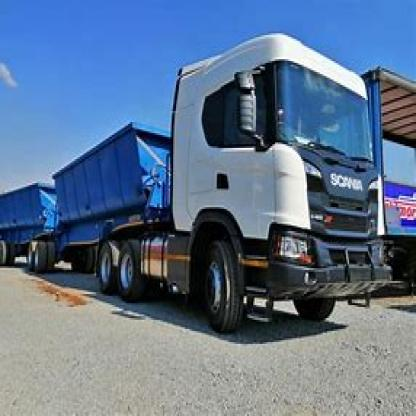dump_truck: (1, 26, 392, 331)
